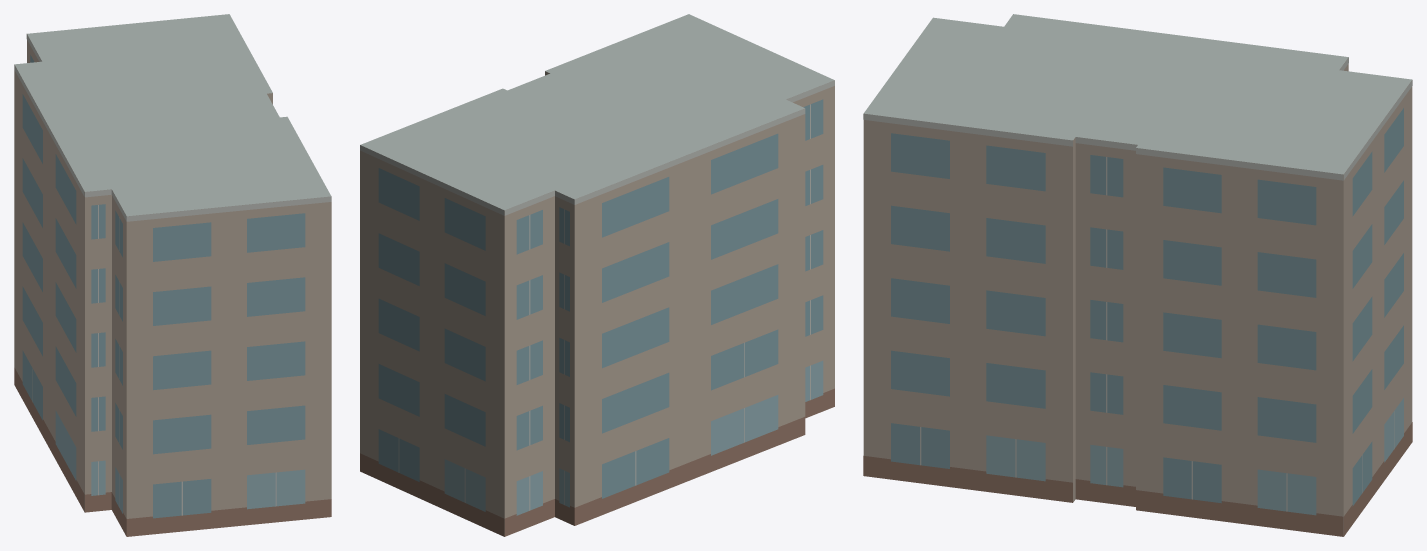
Rendered from survey-upis-32880110.glb.
The picture shows the model from 3 angles, left to right: view 1: azimuth 30°, elevation 25°; view 2: azimuth 150°, elevation 25°; view 3: azimuth 270°, elevation 25°; orthographic projection. The views are drawn at different scales.
Parts seen in each view (by area): view 1: survey-upis-32880110.tmp; view 2: survey-upis-32880110.tmp; view 3: survey-upis-32880110.tmp.
Part boxes in pixels (x1,y1,x2,y2): survey-upis-32880110.tmp: [14, 14, 331, 536]; survey-upis-32880110.tmp: [360, 14, 834, 536]; survey-upis-32880110.tmp: [863, 14, 1412, 536].
Size of the model in its own units: 13.59 by 14.3 by 19.65.
